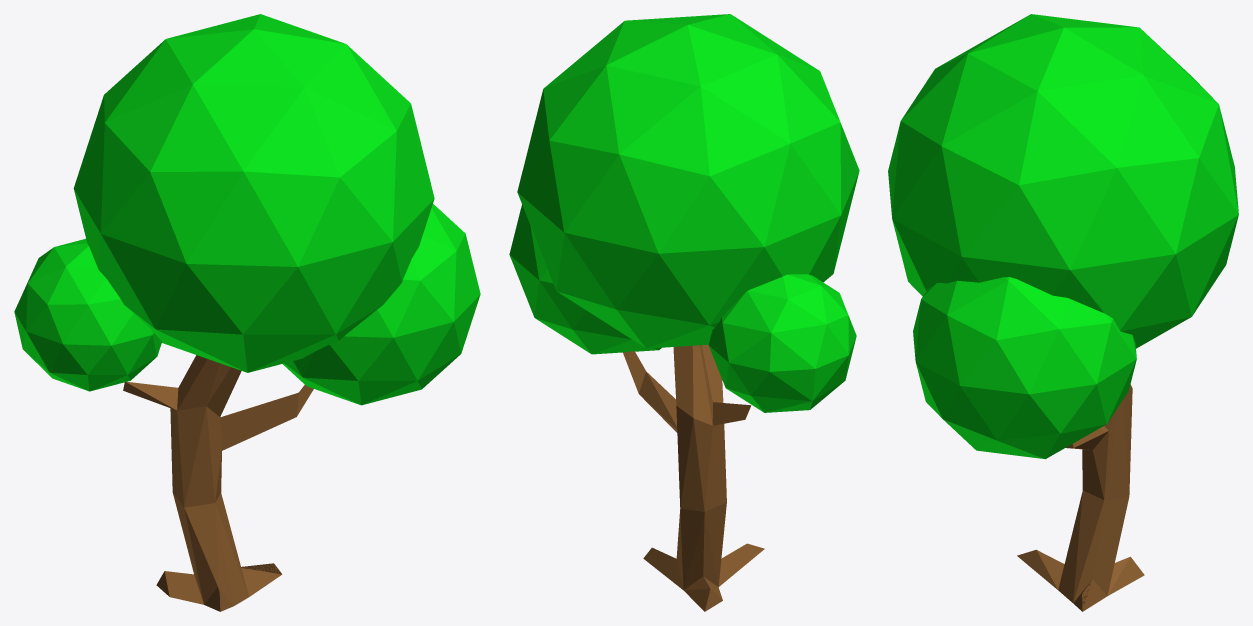
The model's file is agac.gltf.
The picture shows the model from 3 angles, left to right: view 1: azimuth 30°, elevation 25°; view 2: azimuth 150°, elevation 25°; view 3: azimuth 270°, elevation 25°; orthographic projection. The views are drawn at different scales.
Parts seen in each view (by area): view 1: agac1.001; view 2: agac1.001; view 3: agac1.001.
Part boxes in pixels (bbox=[...]): agac1.001: bbox=[14, 14, 480, 611]; agac1.001: bbox=[509, 14, 859, 611]; agac1.001: bbox=[888, 14, 1238, 611].
Bounding box in the file's own units: 5754 × 8066 × 4445.
